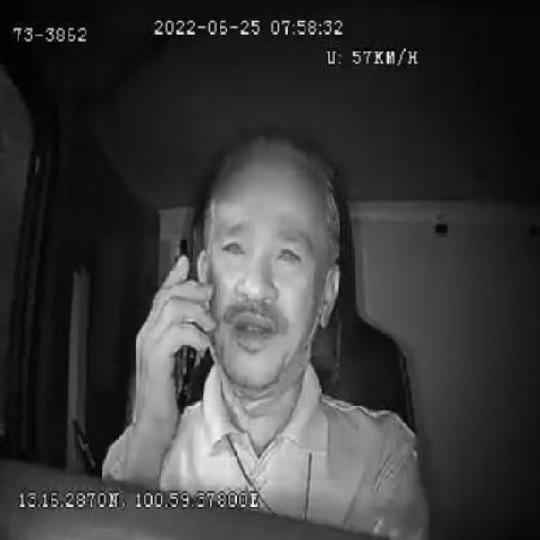phone: (163, 234, 201, 417)
